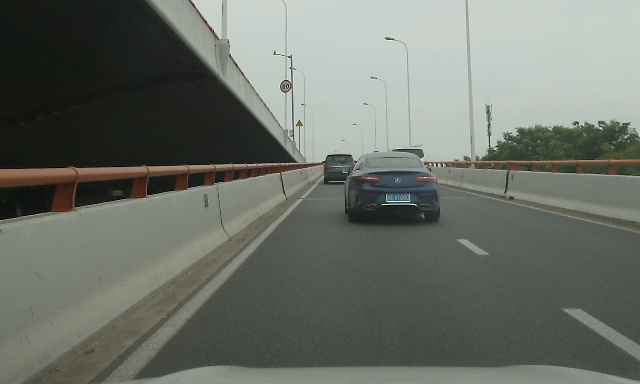car: (341, 152, 441, 223), (321, 154, 357, 185)
